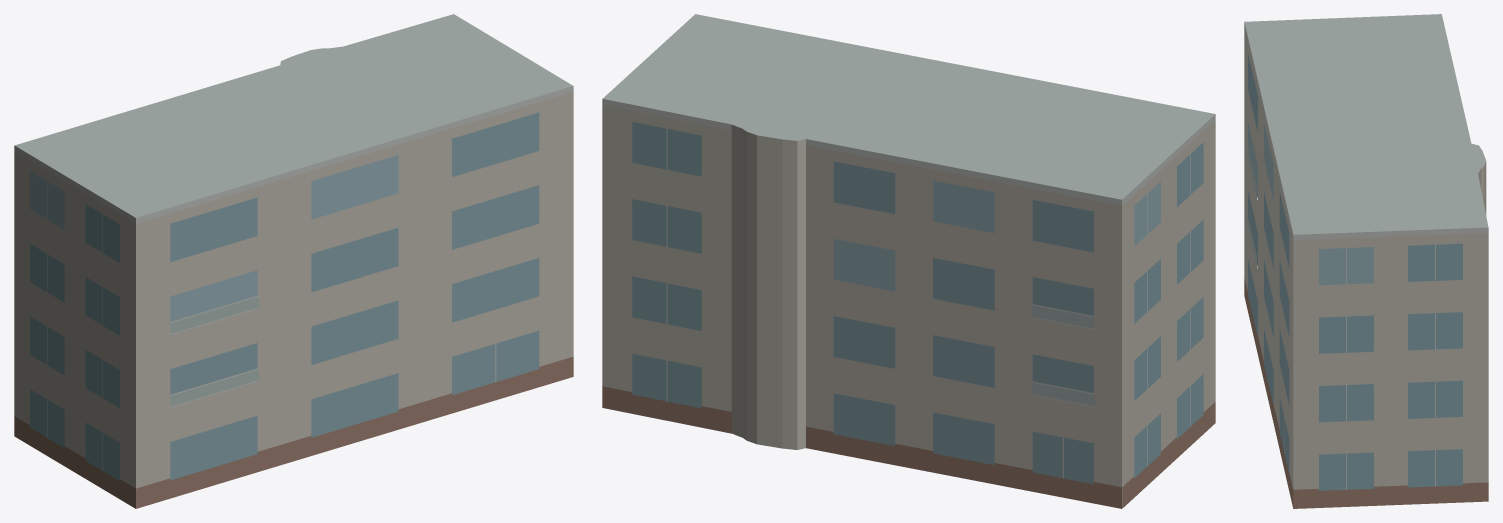
The model's file is survey-upis-32664169.glb.
3 renders of one model, left to right at view 1: azimuth 30°, elevation 25°; view 2: azimuth 150°, elevation 25°; view 3: azimuth 270°, elevation 25°, orthographic. The views are drawn at different scales.
Visible parts, largest first — view 1: survey-upis-32664169.tmp; view 2: survey-upis-32664169.tmp; view 3: survey-upis-32664169.tmp.
Boxes of the visible parts, bbox=[...] form: survey-upis-32664169.tmp: bbox=[14, 14, 573, 508]; survey-upis-32664169.tmp: bbox=[602, 14, 1215, 508]; survey-upis-32664169.tmp: bbox=[1244, 14, 1488, 508].
Bounding box in the file's own units: 21.09 × 12.2 × 9.86.
